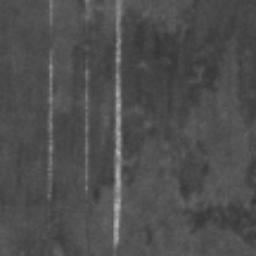Bright scratch: (113, 2, 121, 254), (47, 60, 54, 195), (83, 65, 90, 197)
